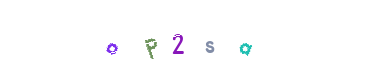2: (141, 0, 221, 80)
A: (205, 0, 285, 80)
O: (112, 0, 192, 80)
P: (129, 0, 209, 80)
S: (147, 0, 227, 80)
